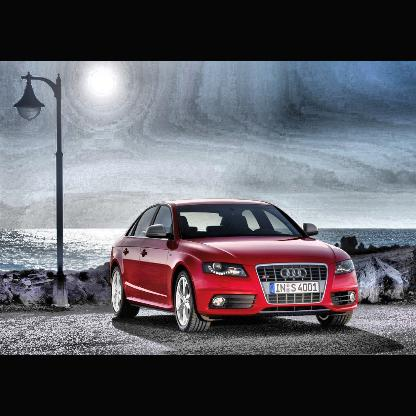Audi S4 Sedan 2012: (111, 199, 360, 333)
